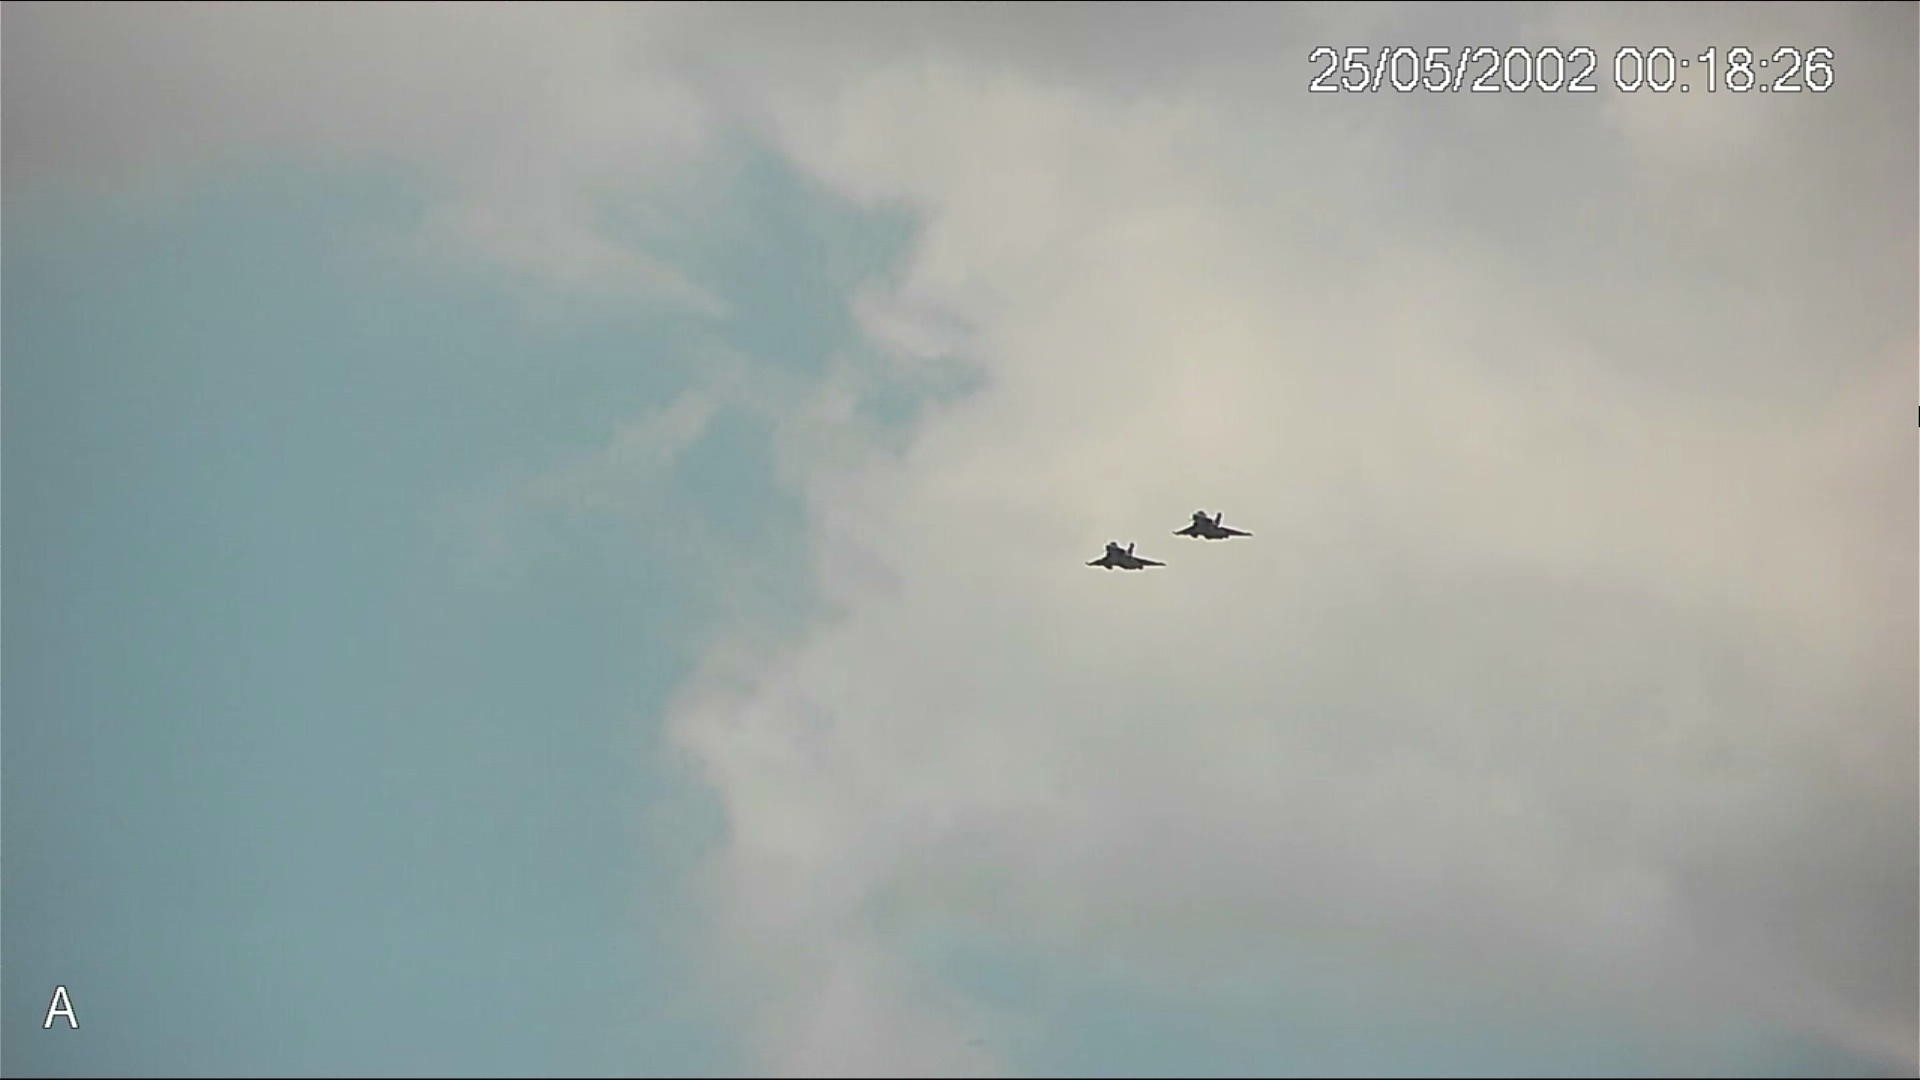SU_30: (1080, 541, 1166, 576), (1170, 510, 1255, 545)
